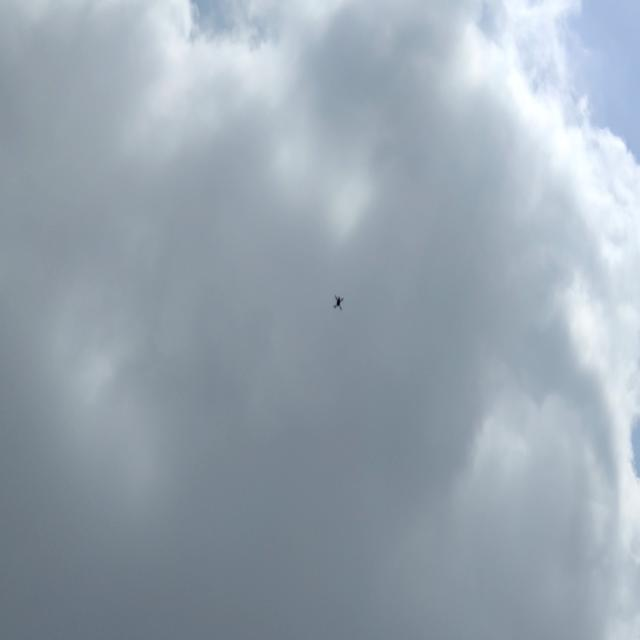drone: (331, 292, 348, 316)
